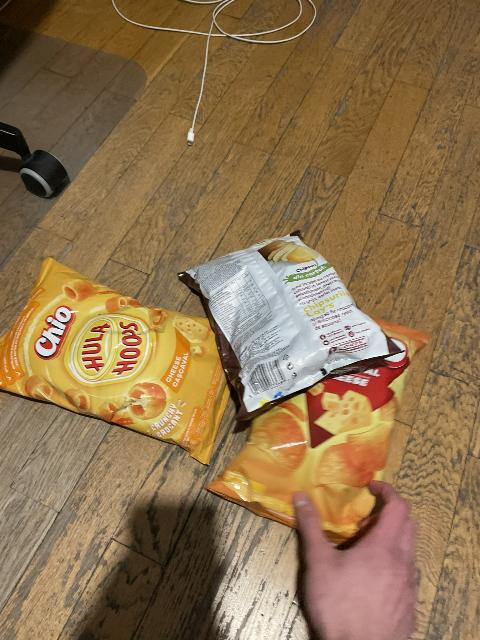Chio Cascaval 125g: (212, 316, 426, 541)
Chio Hula Hoops Cheese 70g: (0, 255, 233, 455)
Lays Beef Grilled Ribs 125g: (185, 236, 394, 414)
